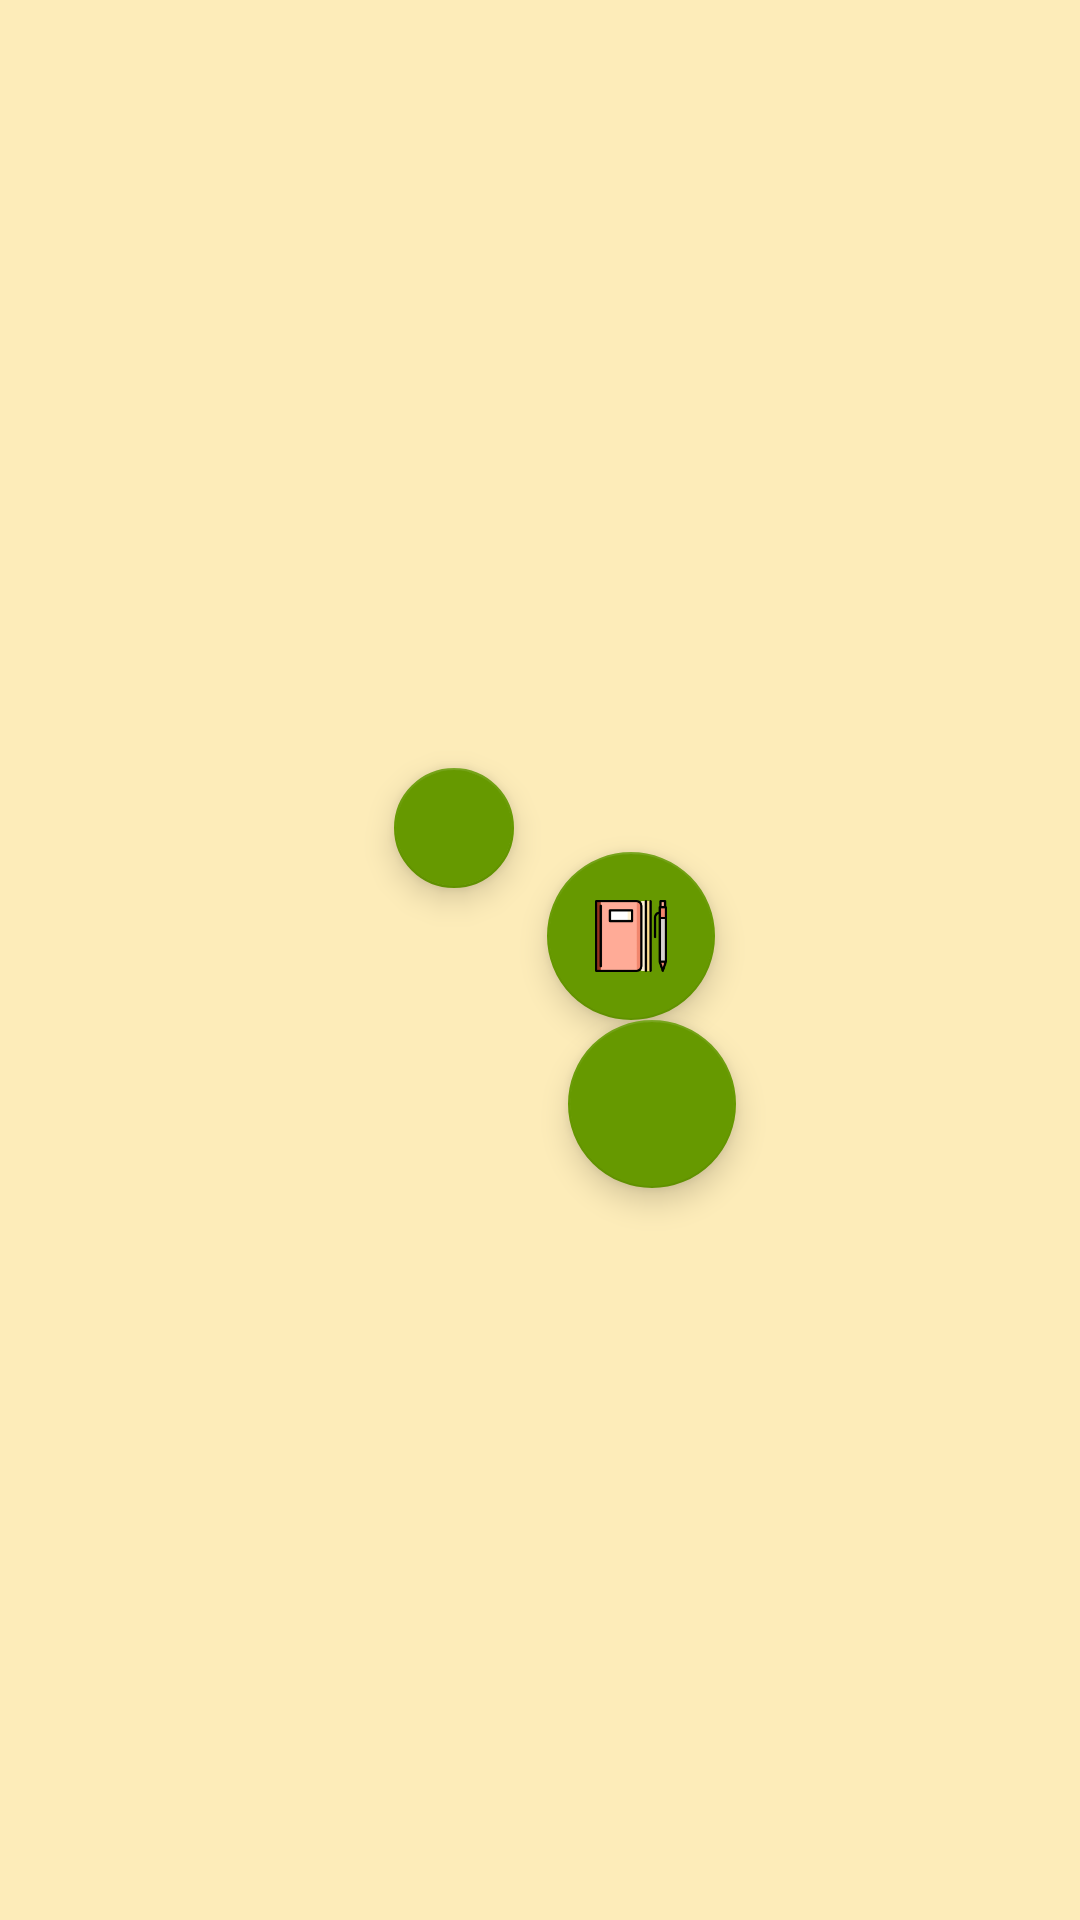

Named icons in this screenshot (1080x1920) and their centers, (x,y):
homework: (631,936)
